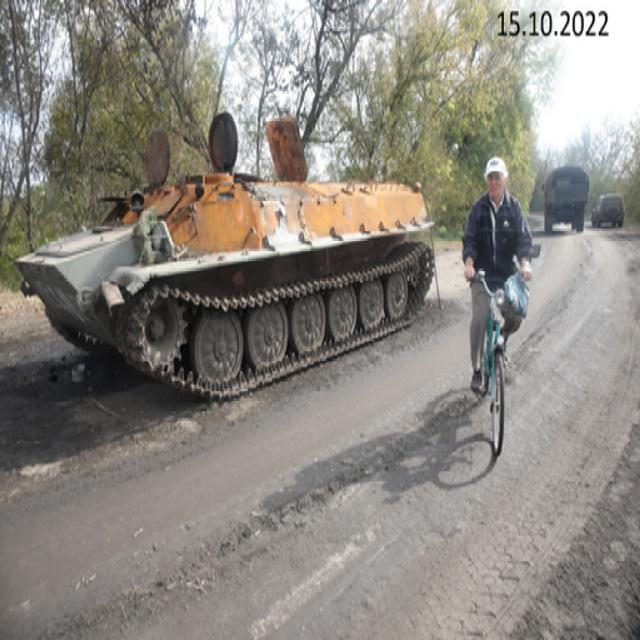APC-IFV: (14, 113, 440, 418)
CAR: (587, 184, 625, 229)
TRUCK: (538, 156, 588, 236)
